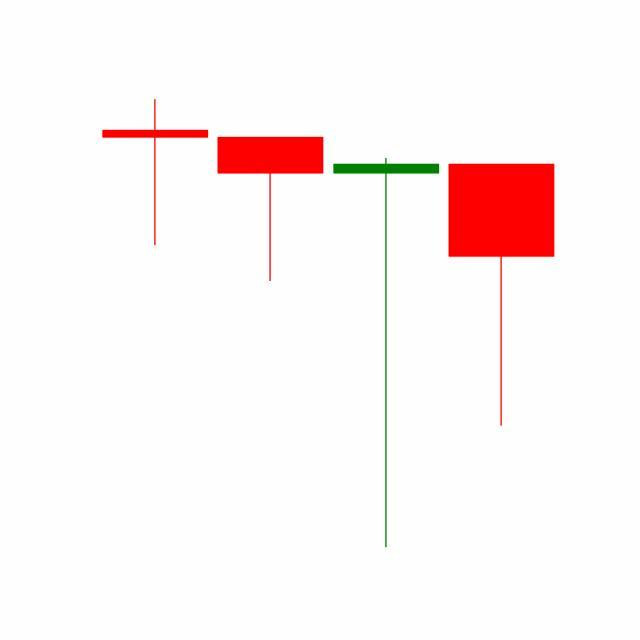Hanging Man: (329, 155, 445, 553)
